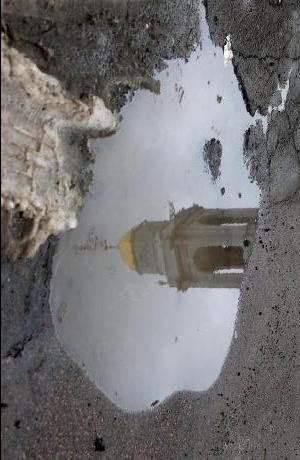pothole: (47, 15, 267, 414)
